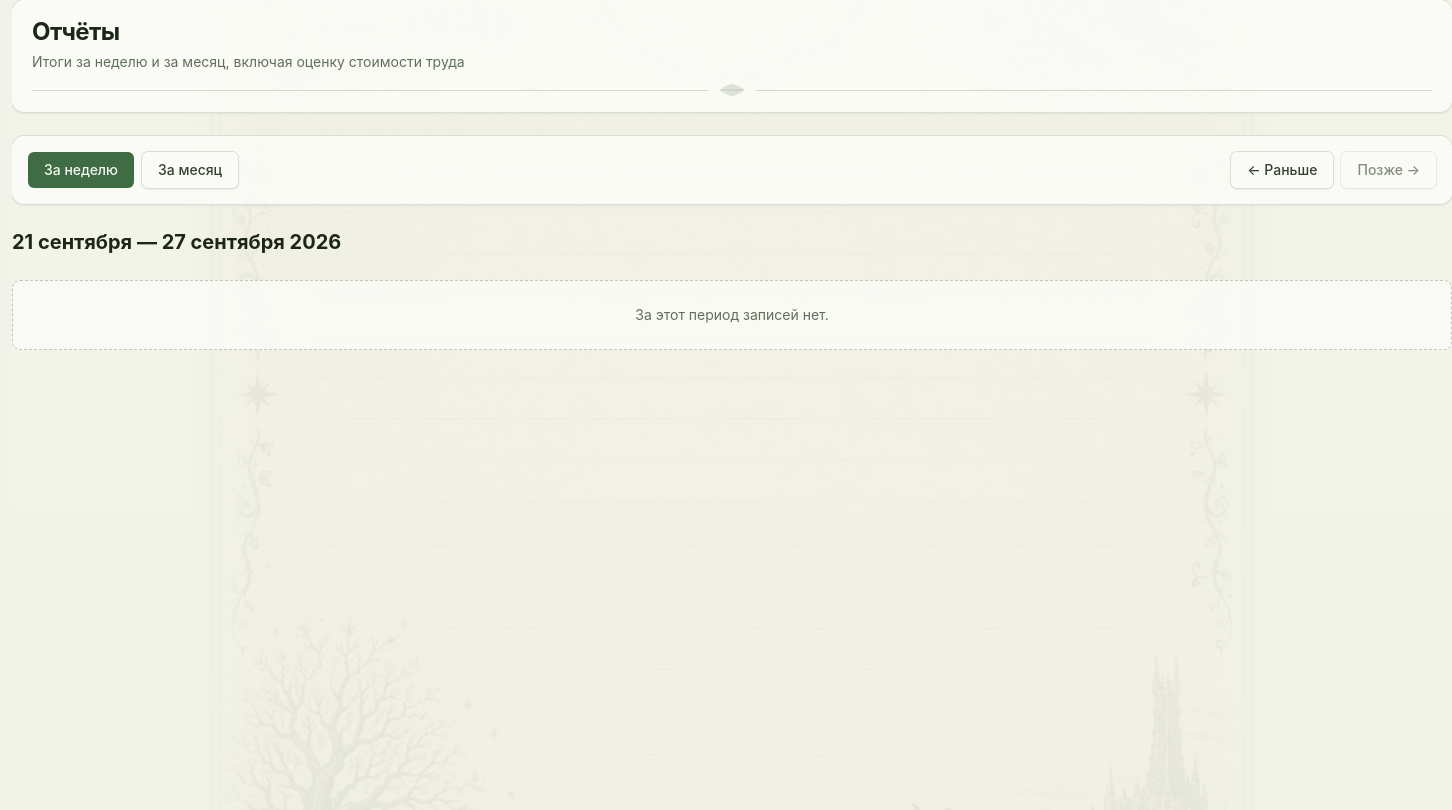
Test: ReportsPage › листает назад и разблокирует кнопку «вперёд»
The width and height of the screenshot is (1452, 810).
Click the button "← Раньше". click: click(1282, 170)
box: [1231,152,1333,188]
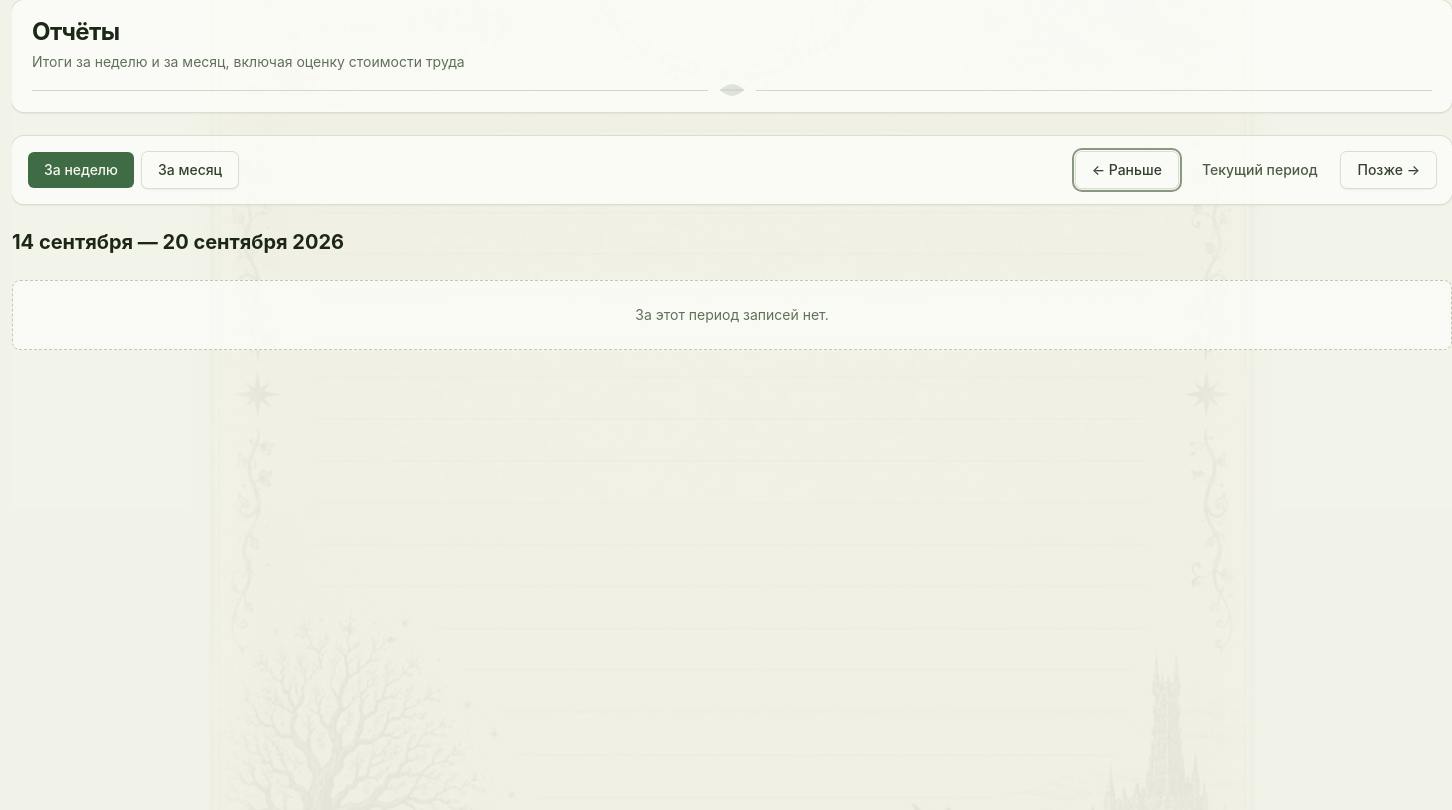
Result: the button "Позже →" is enabled at [1342,152,1436,188]
Result: the button "Текущий период" is shown at [1186,152,1334,188]
